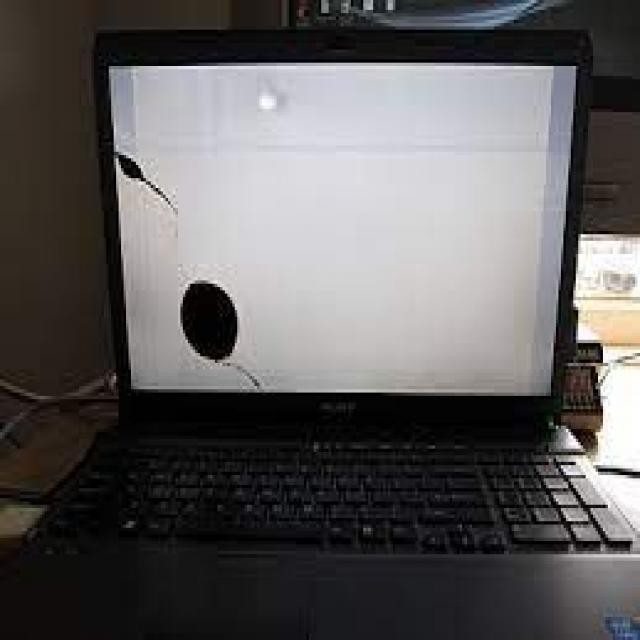Screen cracks: (114, 145, 274, 389)
